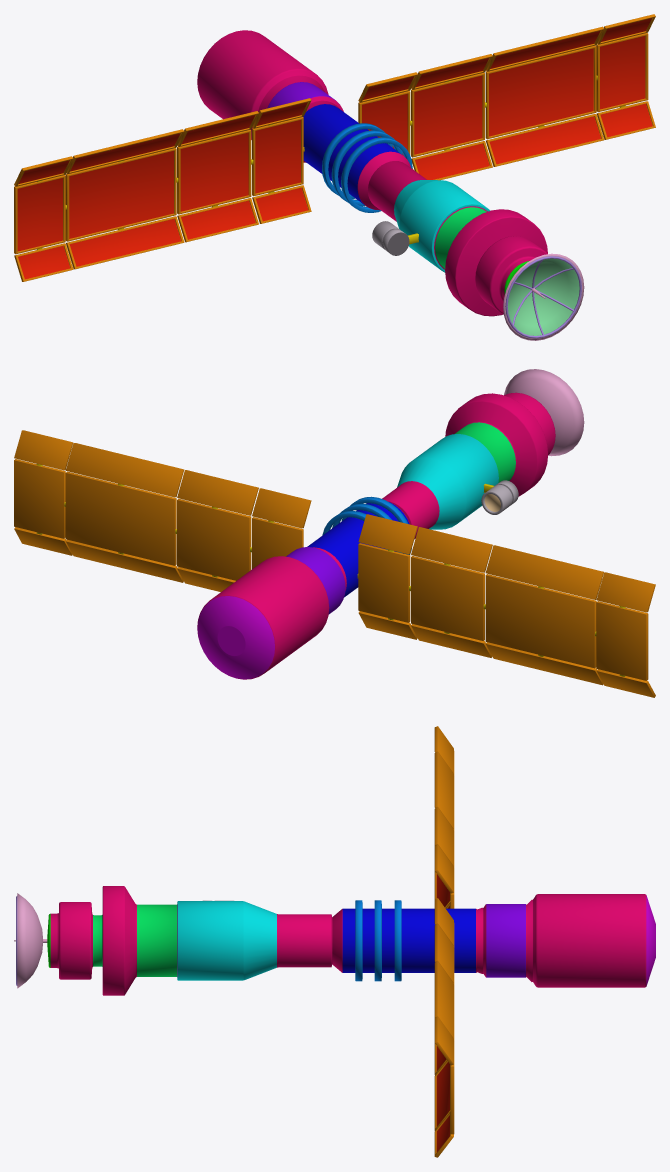
Rendered from sat.gltf.
3 renders of one model, top to bottom at view 1: azimuth 30°, elevation 25°; view 2: azimuth 150°, elevation 25°; view 3: azimuth 270°, elevation 25°, orthographic. The views are drawn at different scales.
Parts seen in each view (by area): view 1: Circle.004; view 2: Circle.004; view 3: Circle.004.
Part boxes in pixels (bbox=[...]): Circle.004: bbox=[14, 14, 655, 340]; Circle.004: bbox=[14, 369, 655, 697]; Circle.004: bbox=[14, 726, 655, 1157].
Size of the model in its own units: 6.63 by 1.14 by 5.7.
